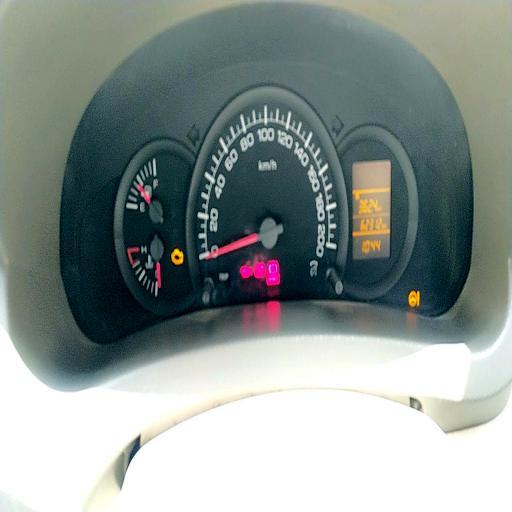check_engine: (171, 249, 184, 265)
